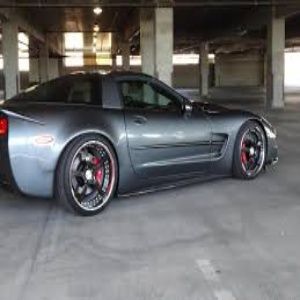door_scratch: (117, 123, 234, 160)
